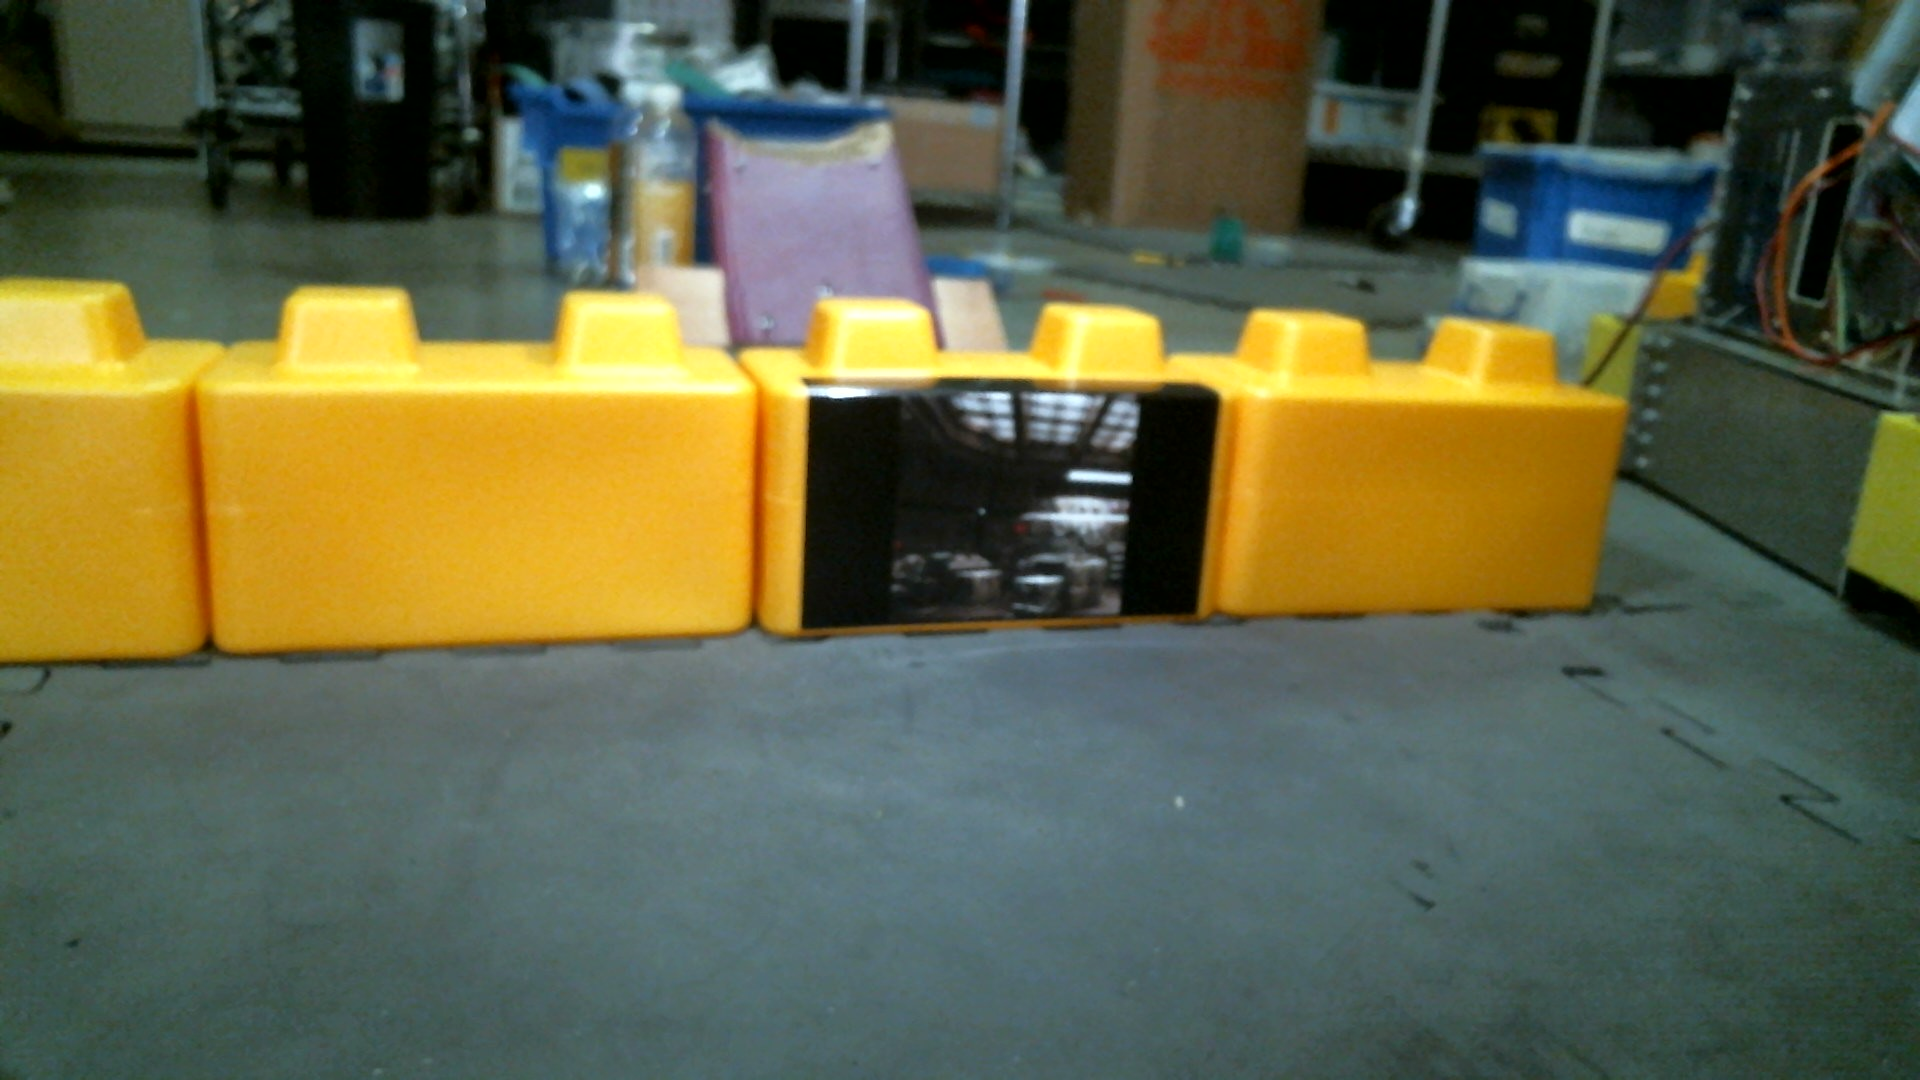skystone: (744, 287, 1232, 636)
stone: (191, 276, 757, 649), (1212, 306, 1607, 611), (1, 273, 202, 659)
